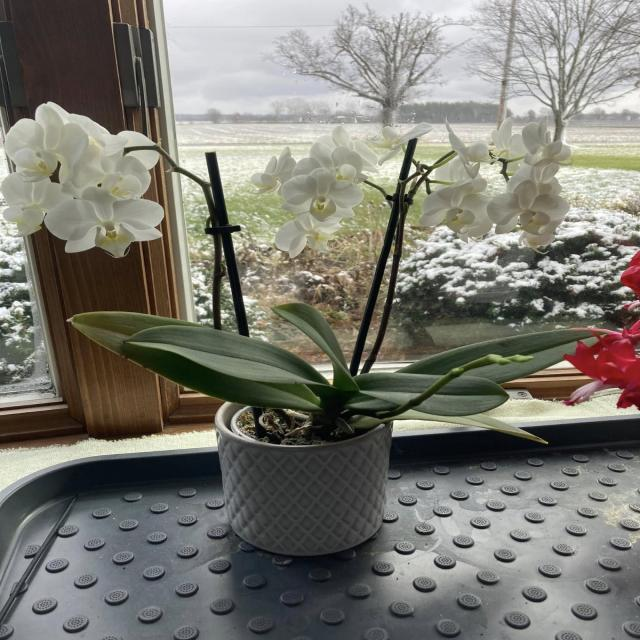flower: (48, 191, 162, 255), (5, 103, 87, 180), (282, 159, 363, 222), (486, 179, 568, 234), (76, 144, 151, 199)
leaf: (351, 328, 587, 415), (76, 315, 332, 393), (1, 449, 212, 536), (406, 377, 507, 416)
pot: (207, 389, 401, 561)
